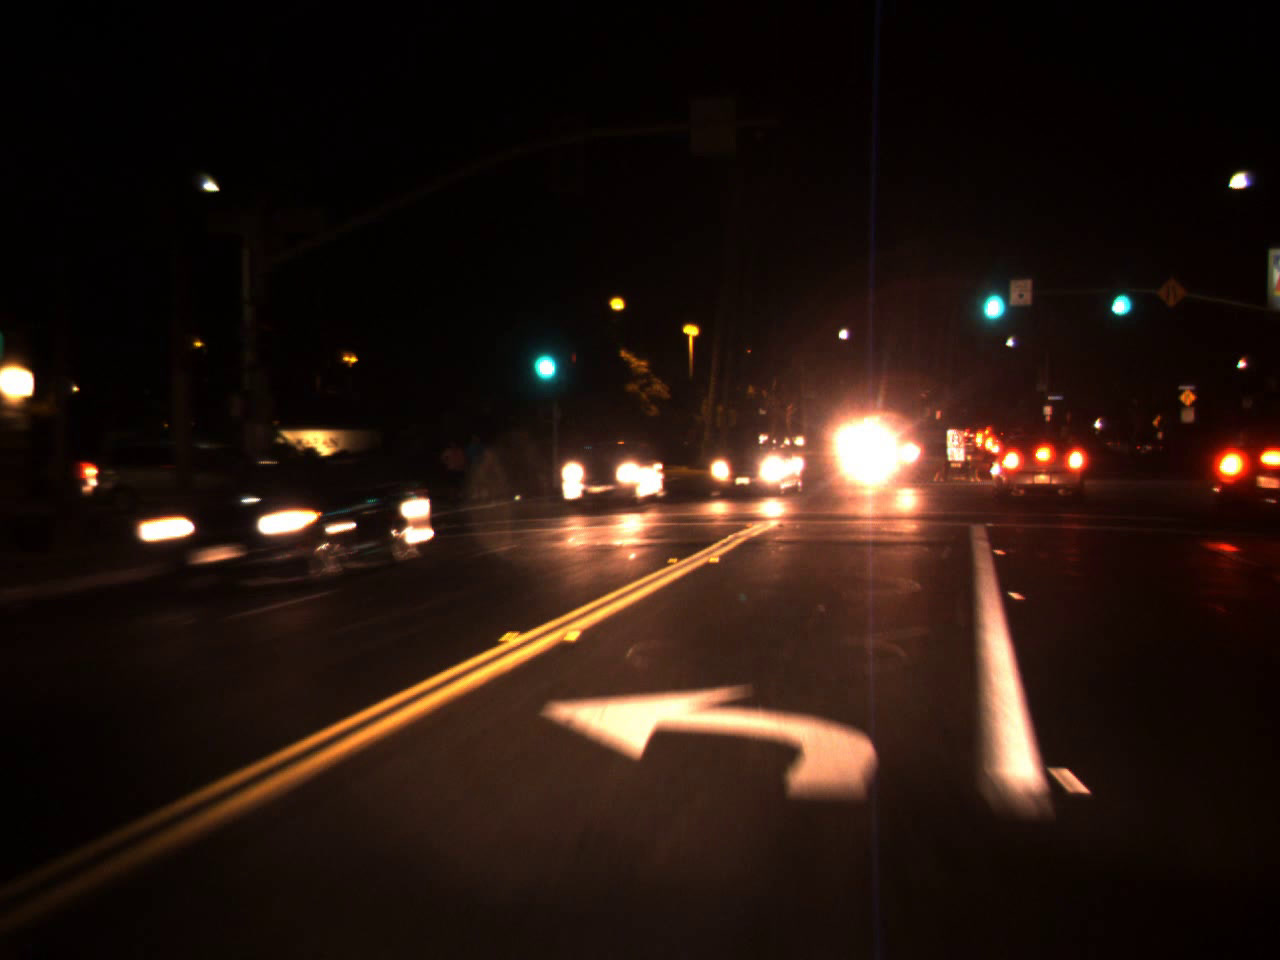go: (524, 323, 561, 389), (974, 263, 1010, 329), (1106, 269, 1134, 323)
